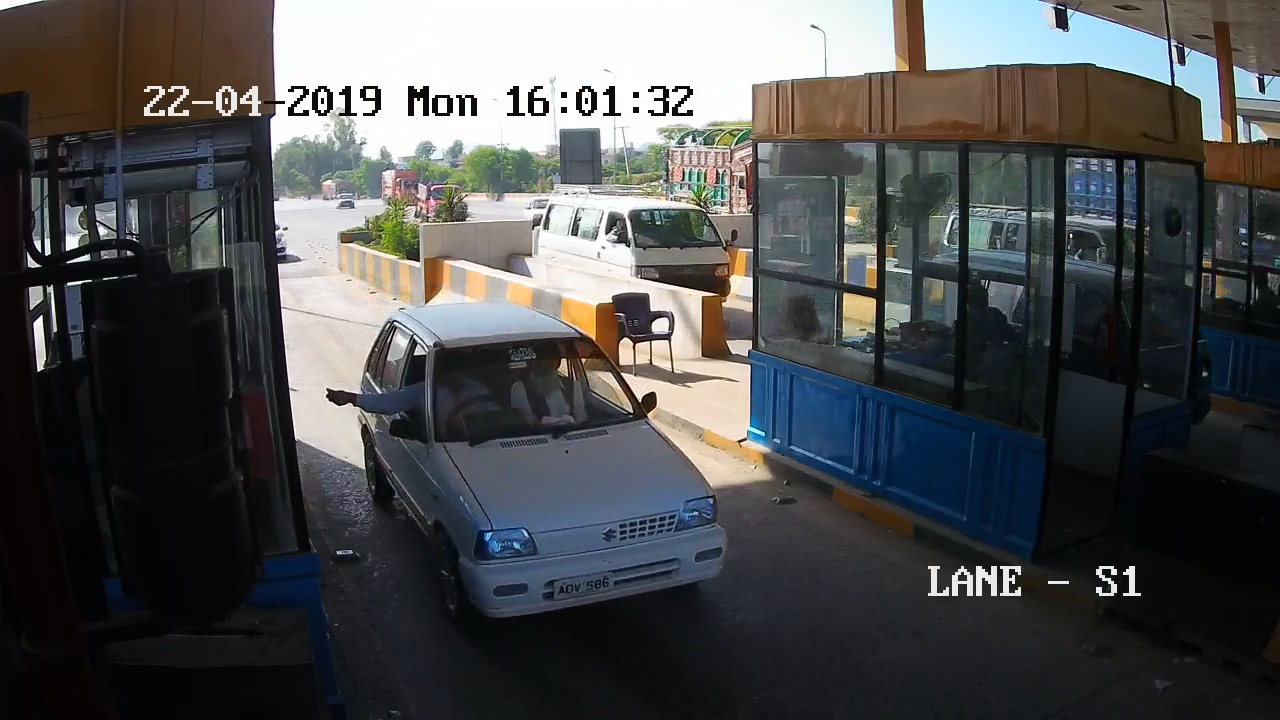Number Plate (Car): (551, 575, 614, 598)
